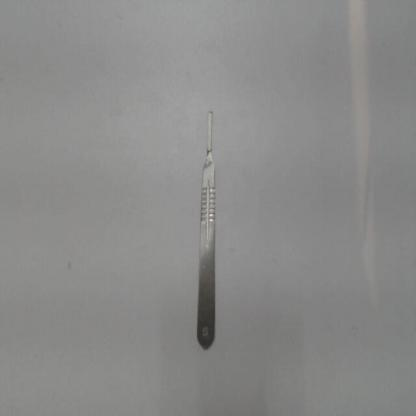No.4 BP Handle: (193, 103, 218, 357)
